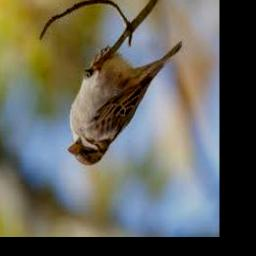Sparrow: (67, 39, 182, 167)
